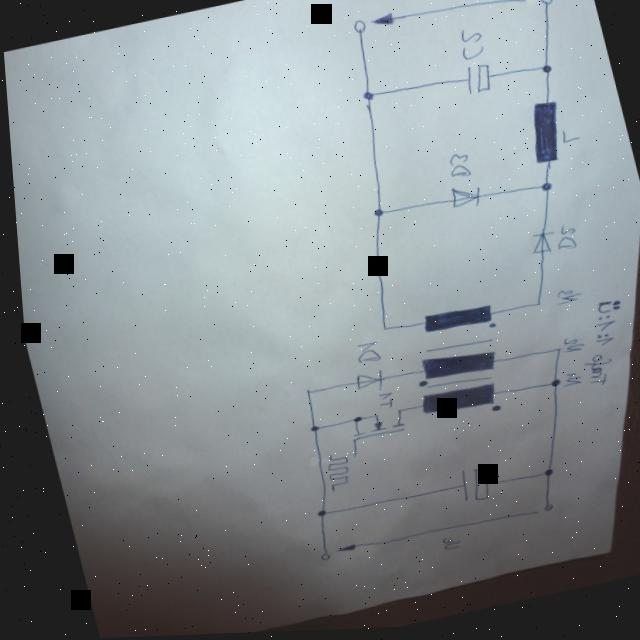capacitor: (447, 467, 489, 508), (457, 65, 496, 101)
diode: (443, 186, 481, 216), (521, 232, 556, 262), (347, 370, 383, 395)
inductor: (516, 101, 574, 174)
junction: (357, 90, 376, 108), (536, 65, 555, 82), (533, 184, 554, 199), (367, 210, 384, 222), (542, 382, 557, 392), (527, 302, 539, 314), (534, 471, 546, 482), (307, 511, 320, 521), (302, 427, 313, 436), (375, 327, 384, 336), (548, 349, 558, 357), (298, 390, 306, 398)
terminal: (351, 20, 368, 38), (537, 0, 557, 14), (533, 506, 548, 518), (309, 553, 324, 564), (343, 454, 351, 462)
text: (579, 302, 626, 361), (575, 349, 613, 393), (455, 29, 487, 68), (442, 155, 472, 185), (345, 341, 377, 369), (549, 228, 577, 256), (548, 291, 577, 312), (366, 392, 391, 414), (555, 339, 579, 359), (554, 374, 577, 393), (432, 539, 455, 556), (444, 0, 475, 0)
transformer: (389, 301, 513, 432)
transistor: (338, 409, 403, 446)
